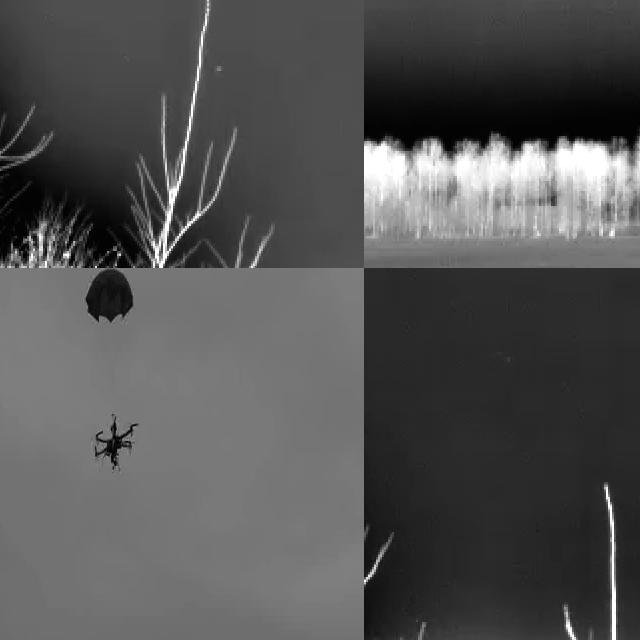0: (499, 348, 519, 374), (211, 58, 233, 78)
drone: (90, 413, 142, 473)
